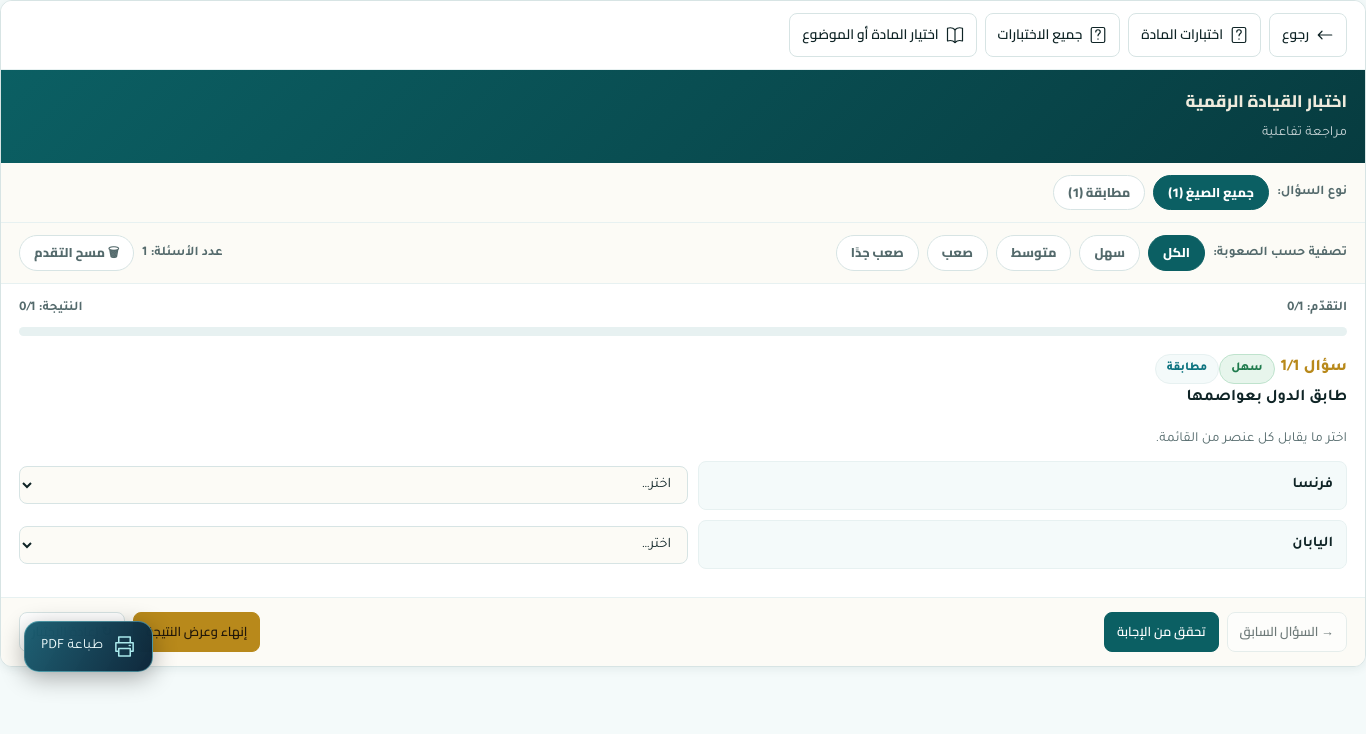
Scenario: fill, match and order › rejects an incomplete match, then submits every pair and highlights rows independently
Select "باريس" in the dropdown labelled "فرنسا" at (354, 485), box left=19, top=466, right=688, bottom=504
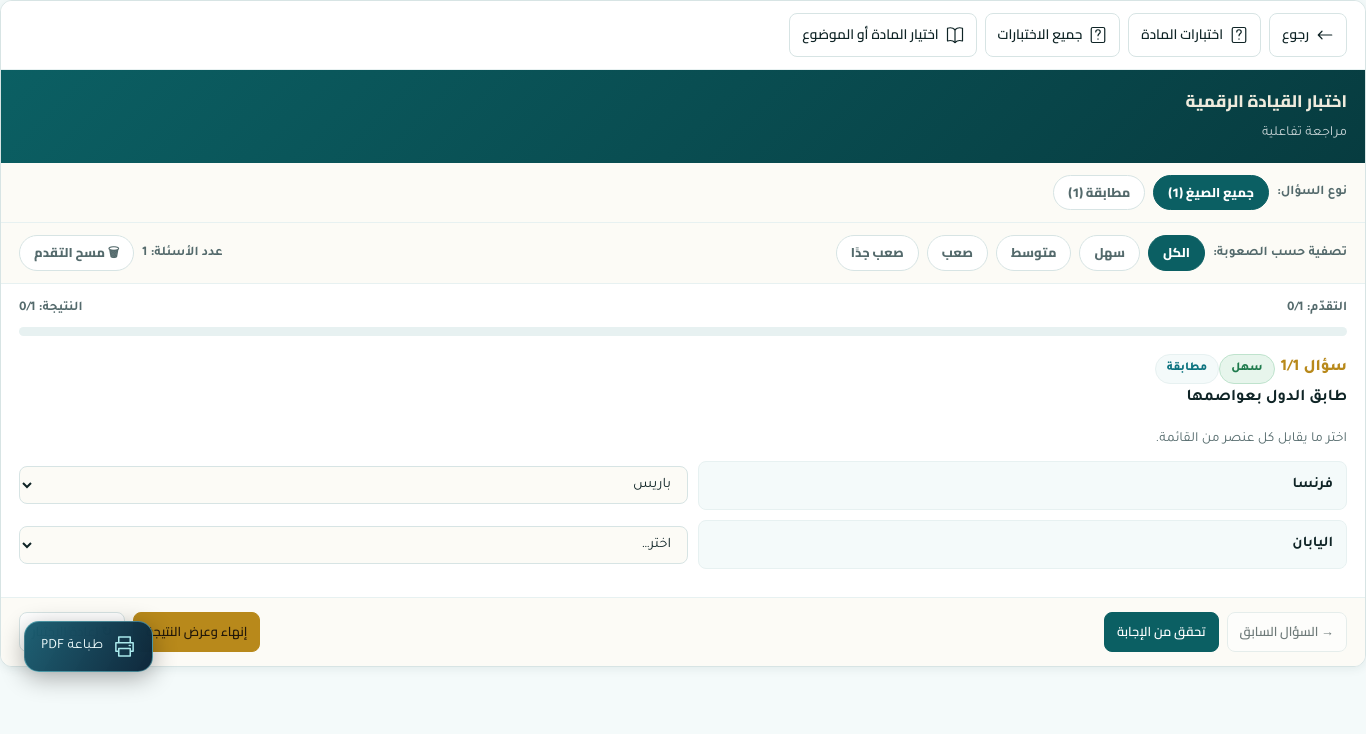
Click the button "تحقق من الإجابة" at (1161, 632), box left=1104, top=612, right=1219, bottom=652
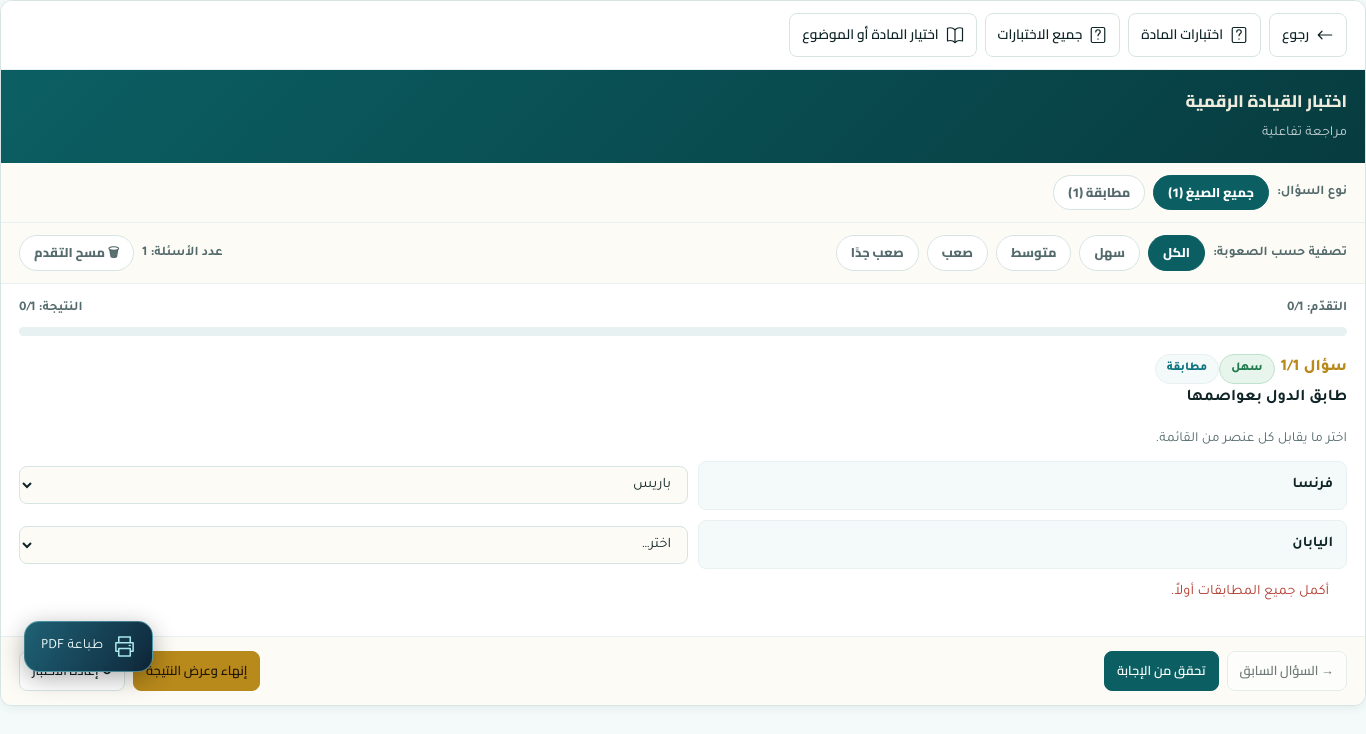
Expected: the message "أكمل جميع المطابقات أولاً." is shown, left=1171, top=585, right=1329, bottom=599
Select "باريس" in the dropdown labelled "اليابان" at (354, 544), box left=19, top=526, right=688, bottom=564
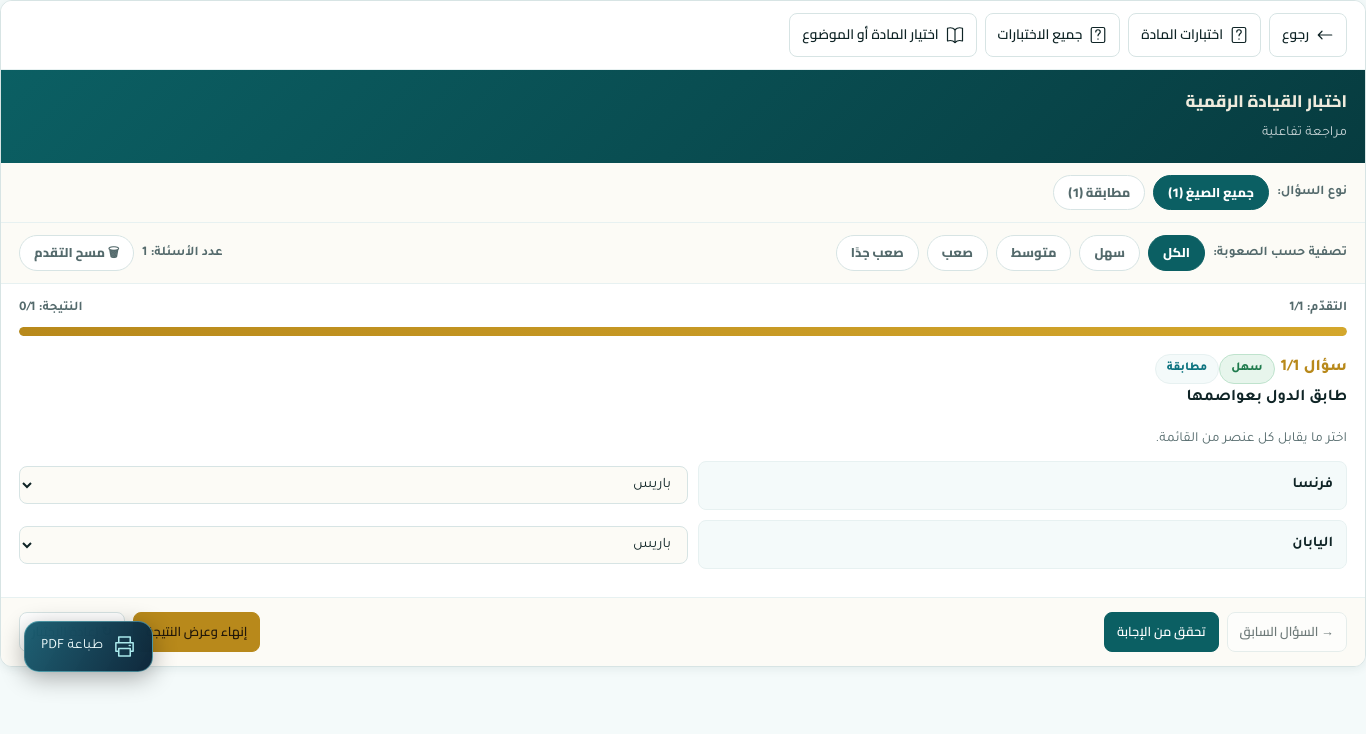
Click the button "تحقق من الإجابة" at (1161, 632), box left=1104, top=612, right=1219, bottom=652
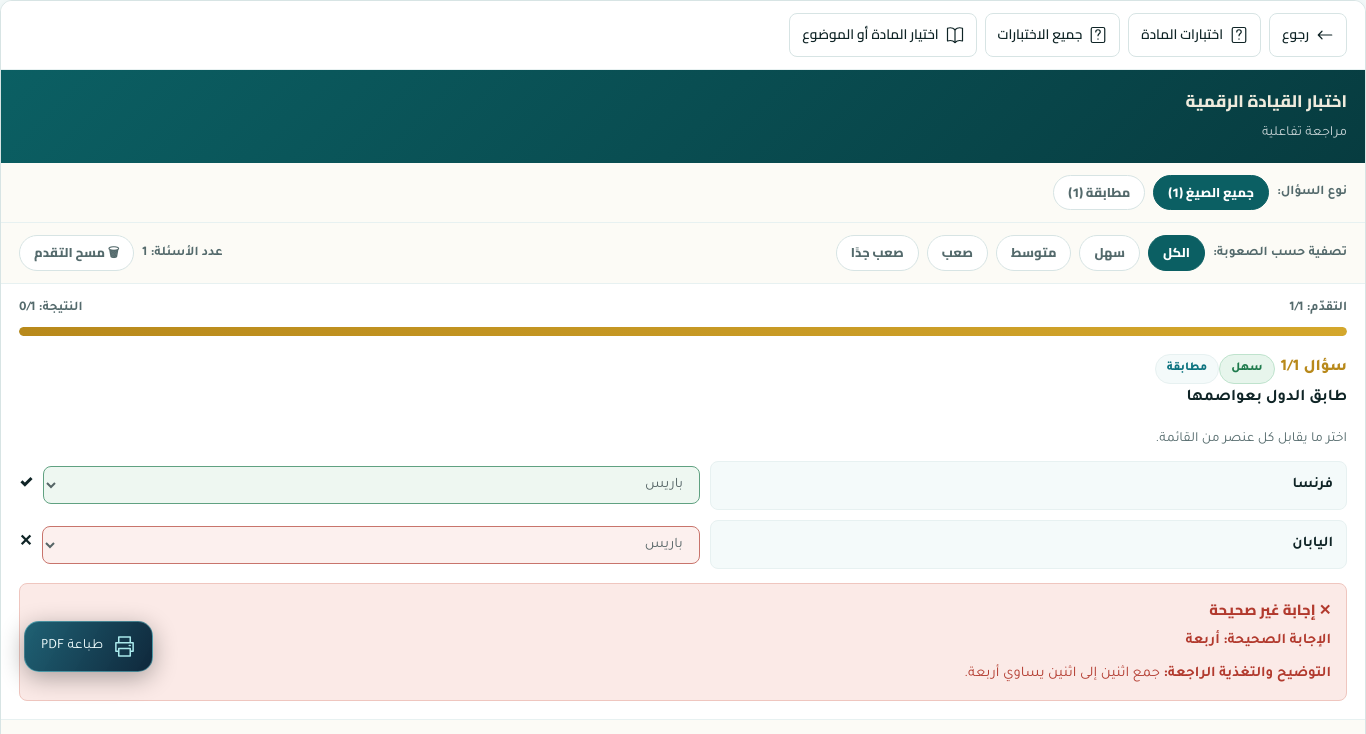
Expected: the text "✕ إجابة غير صحيحة" is shown, left=1209, top=596, right=1331, bottom=623
